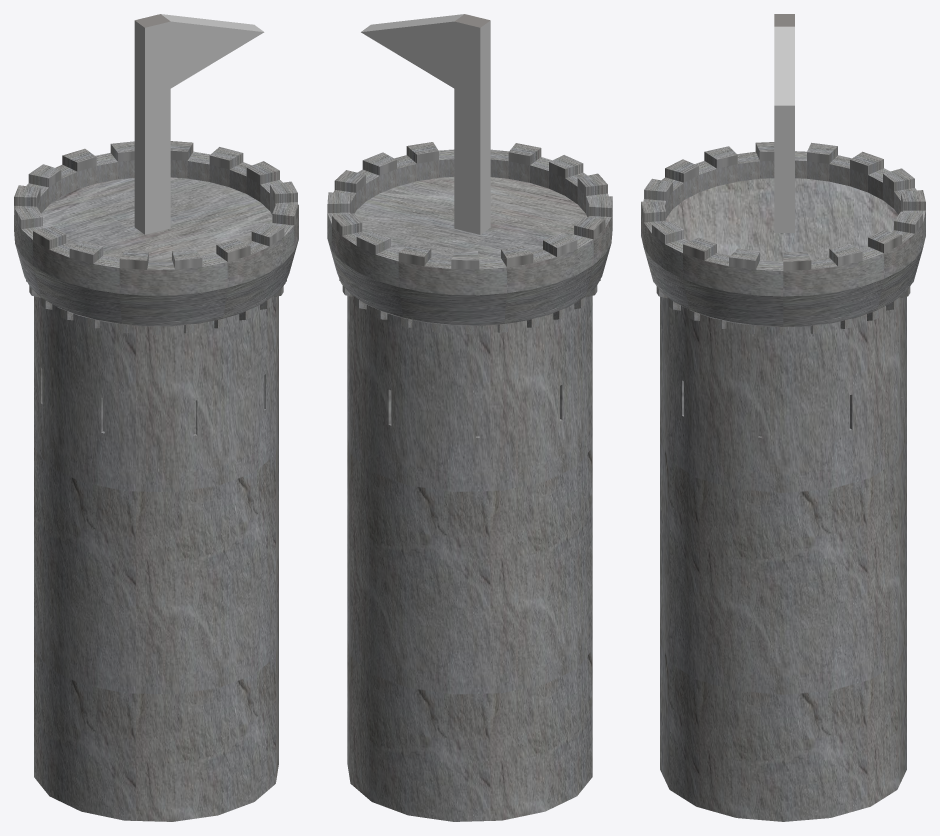
Rendered from torreROJO.fbx.
The picture shows the model from 3 angles, left to right: view 1: azimuth 30°, elevation 25°; view 2: azimuth 150°, elevation 25°; view 3: azimuth 270°, elevation 25°; orthographic projection.
Parts seen in each view (by area): view 1: group175_pCube974; view 2: group175_pCube974; view 3: group175_pCube974.
Part boxes in pixels (bbox=[...]): group175_pCube974: bbox=[14, 14, 298, 821]; group175_pCube974: bbox=[327, 14, 612, 821]; group175_pCube974: bbox=[641, 14, 925, 821].
Bounding box in the file's own units: 893 × 2588 × 893.
